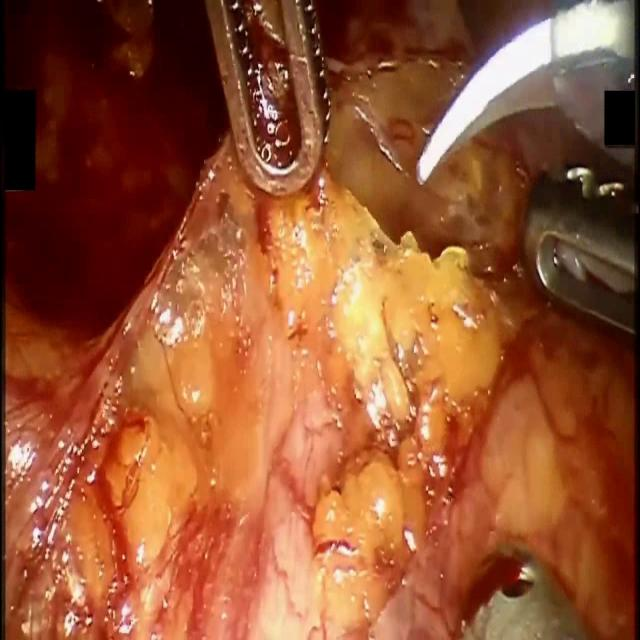surgical-tool: (416, 0, 638, 348), (204, 0, 328, 196)
